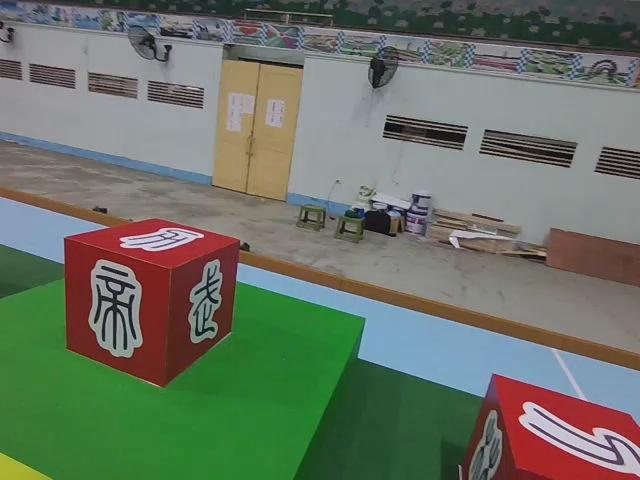R2 Fake: (62, 216, 241, 391), (459, 370, 640, 480)
